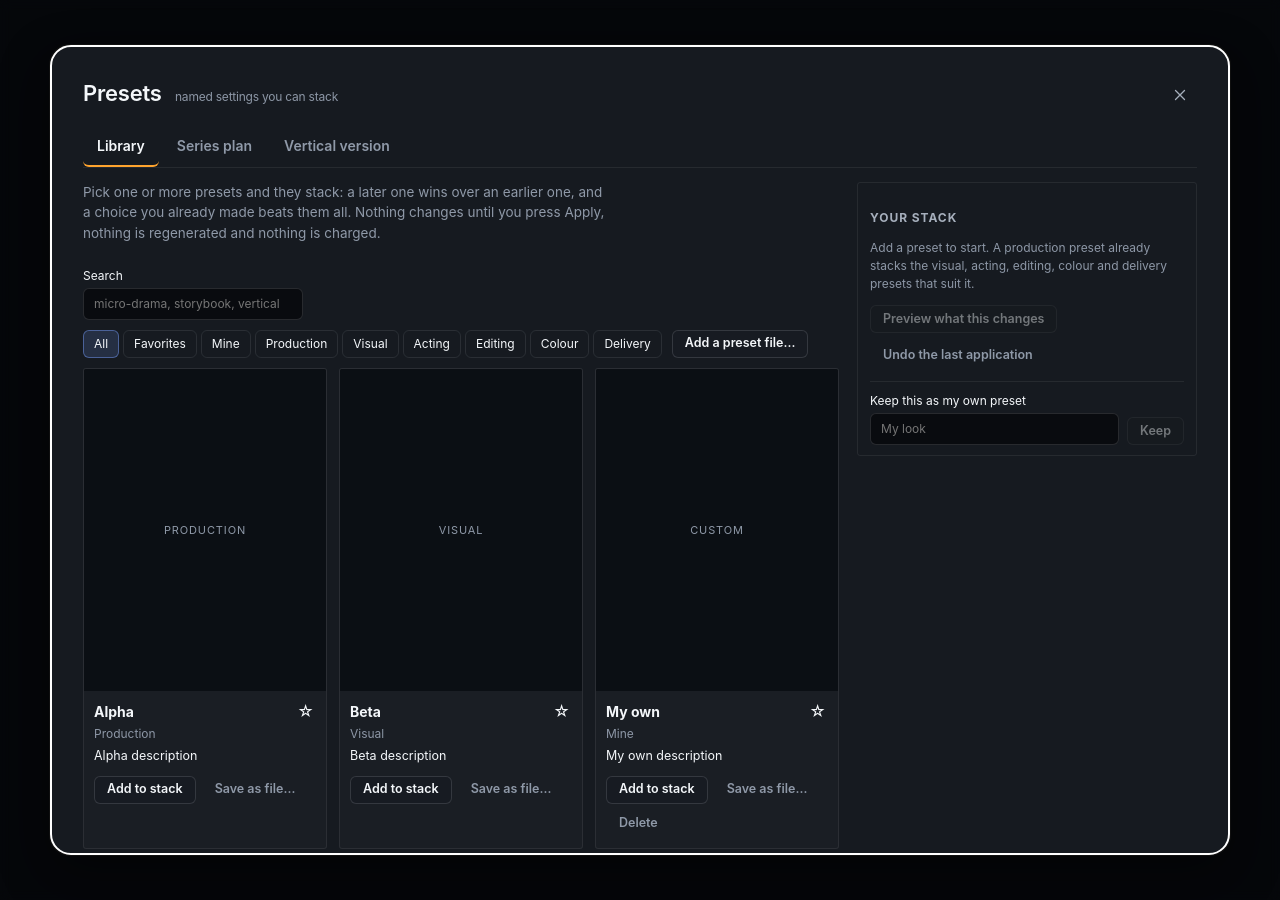
it: the presets sheet › undo is offered after something was applied and reports what was put back
Click the button "Undo the last application" at [958, 355], box [870,341,1046,369]
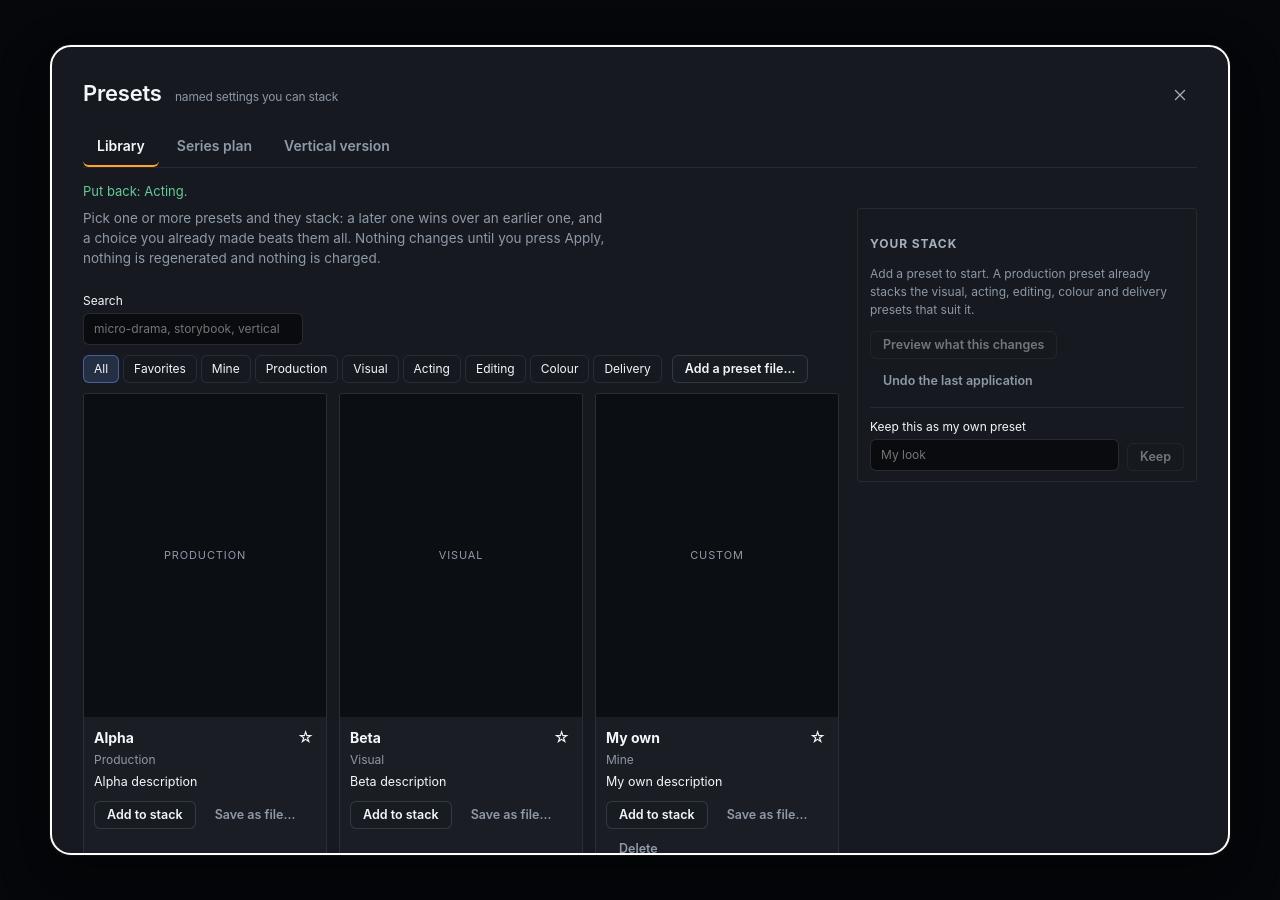
Expected: the text "Put back: Acting." is shown, [83,183,188,199]
